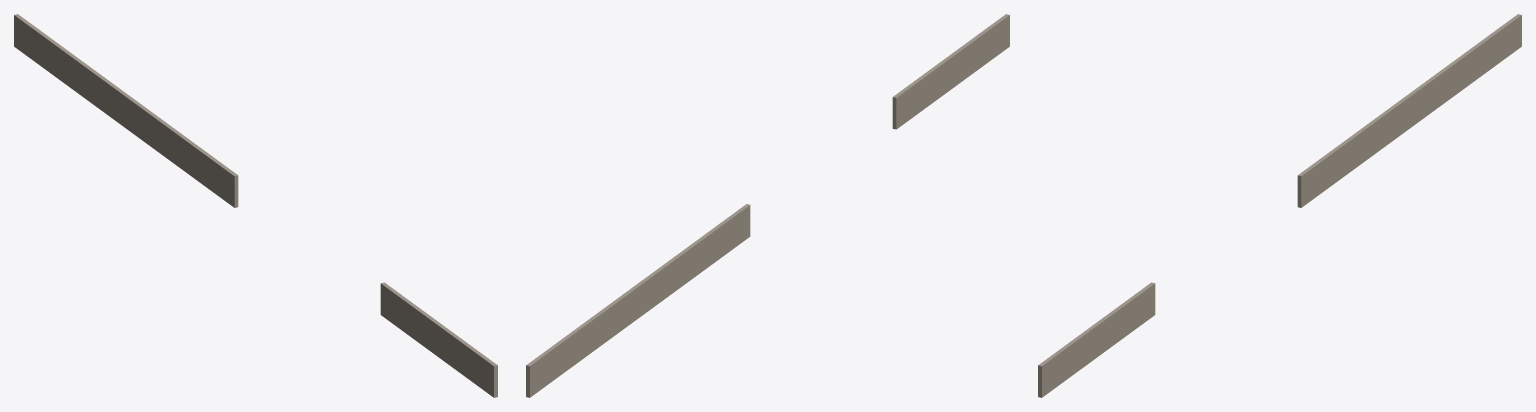
The model's file is SM_Skirting_Living_West_003.fbx.
The picture shows the model from 3 angles, left to right: view 1: azimuth 30°, elevation 25°; view 2: azimuth 150°, elevation 25°; view 3: azimuth 330°, elevation 25°; orthographic projection.
Parts seen in each view (by area): view 1: SM_Skirting_Living_West_003; view 2: SM_Skirting_Living_West_003; view 3: SM_Skirting_Living_West_003.
Boxes of the visible parts, x1=… form: SM_Skirting_Living_West_003: x1=14, y1=14, x2=497, y2=397; SM_Skirting_Living_West_003: x1=526, y1=14, x2=1009, y2=397; SM_Skirting_Living_West_003: x1=1038, y1=14, x2=1521, y2=397.
Bounding box in the file's own units: 1.4 × 11 × 303.
